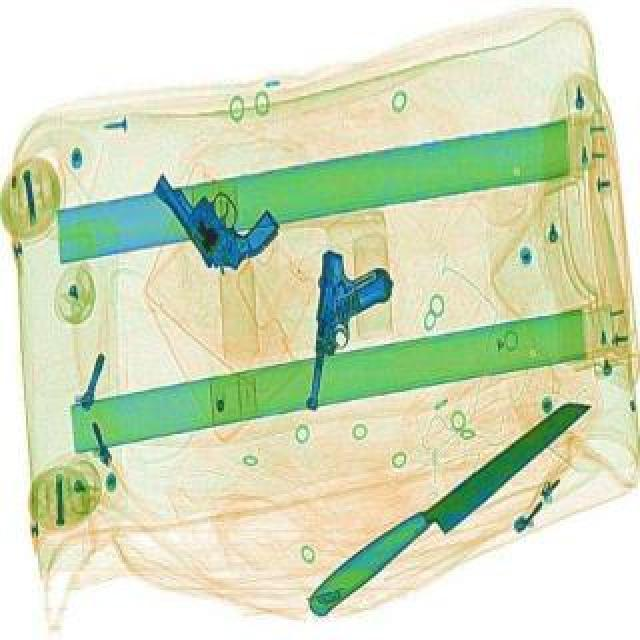gun: (142, 140, 286, 280), (300, 248, 396, 414)
knife: (298, 384, 598, 622)
